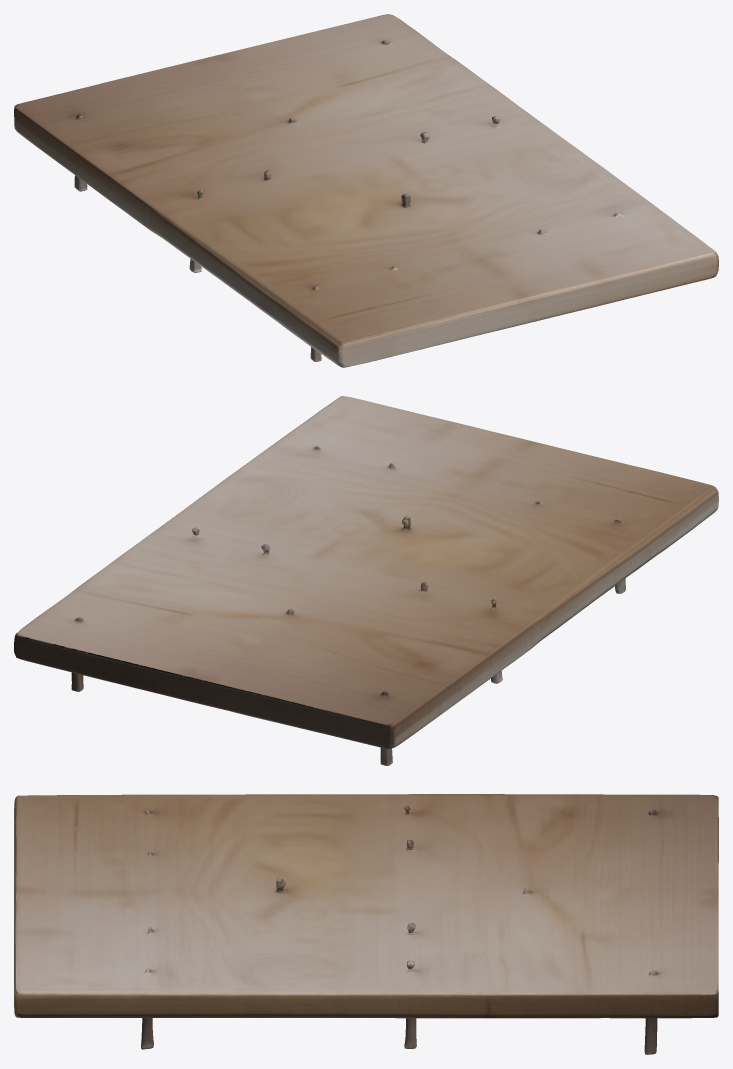
Rendered from pegboard_visual_0.obj.
3 renders of one model, top to bottom at view 1: azimuth 30°, elevation 25°; view 2: azimuth 150°, elevation 25°; view 3: azimuth 270°, elevation 25°, orthographic. The views are drawn at different scales.
Size of the model in its own units: 0.6742 by 0.1439 by 1.
Materials: 1 (1 with a texture image).
